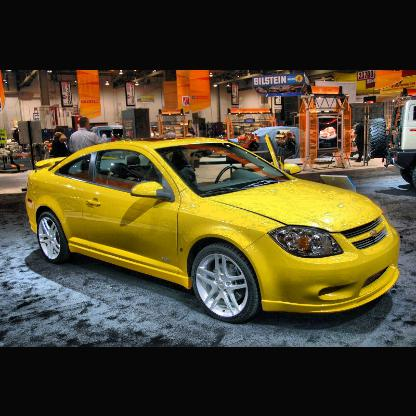Chevrolet Cobalt SS 2010: (24, 134, 405, 323)
